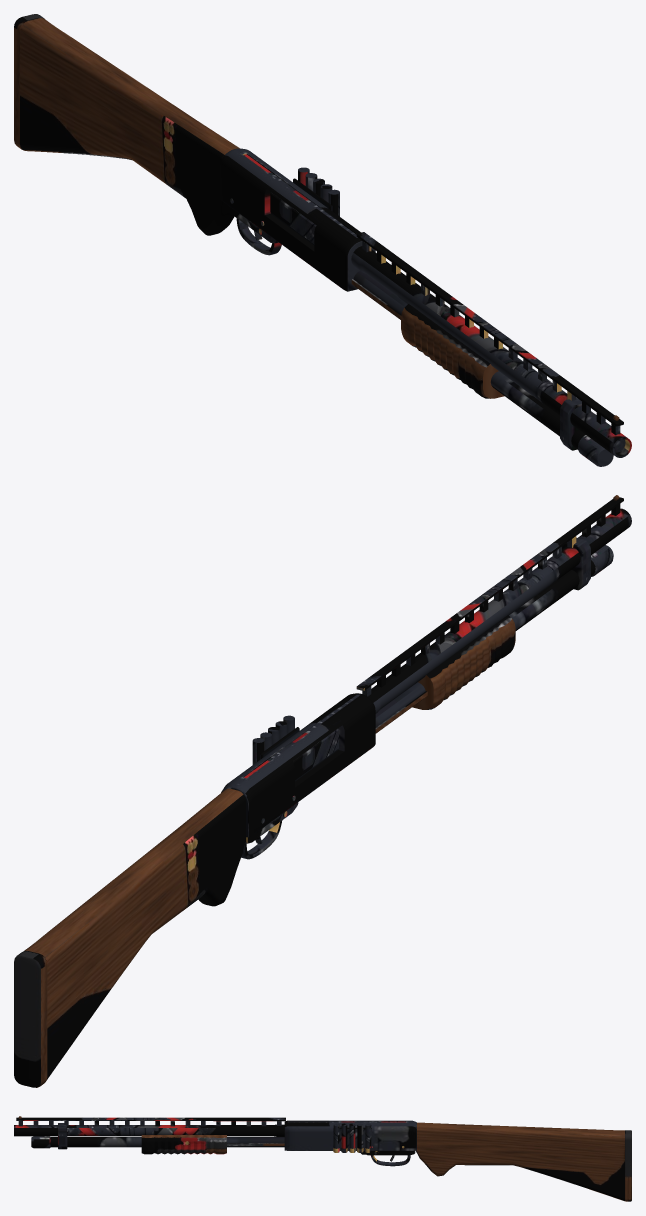
The model's file is shotgun.glb.
3 views of the same model, one above another, from view 1: azimuth 30°, elevation 25°; view 2: azimuth 150°, elevation 25°; view 3: azimuth 270°, elevation 25° (orthographic). The views are drawn at different scales.
Parts seen in each view (by area): view 1: Shotgun_Body, Shotgun_Stock, Shotgun_Pump; view 2: Shotgun_Stock, Shotgun_Body, Shotgun_Pump; view 3: Shotgun_Body, Shotgun_Stock, Shotgun_Pump.
Boxes of the visible parts, x1=… form: Shotgun_Body: x1=220, y1=148, x2=631, y2=466; Shotgun_Stock: x1=14, y1=14, x2=239, y2=235; Shotgun_Pump: x1=351, y1=279, x2=504, y2=398; Shotgun_Stock: x1=14, y1=788, x2=245, y2=1087; Shotgun_Body: x1=221, y1=497, x2=631, y2=859; Shotgun_Pump: x1=375, y1=615, x2=515, y2=733; Shotgun_Body: x1=14, y1=1117, x2=416, y2=1166; Shotgun_Stock: x1=416, y1=1122, x2=631, y2=1201; Shotgun_Pump: x1=141, y1=1135, x2=284, y2=1154.
Bounding box in the file's own units: 0.1805 × 0.603 × 4.07.
2 materials, 2 textured.
